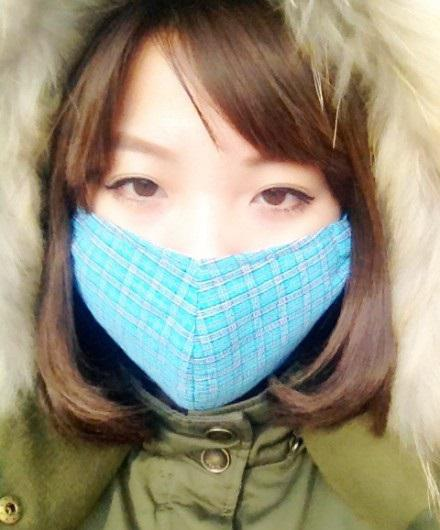WRONG: (80, 130, 356, 398)
